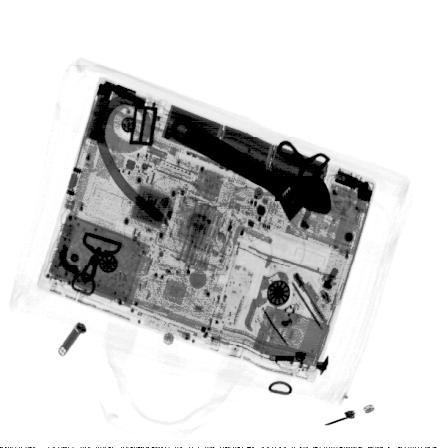Wrench: (169, 114, 333, 223)
